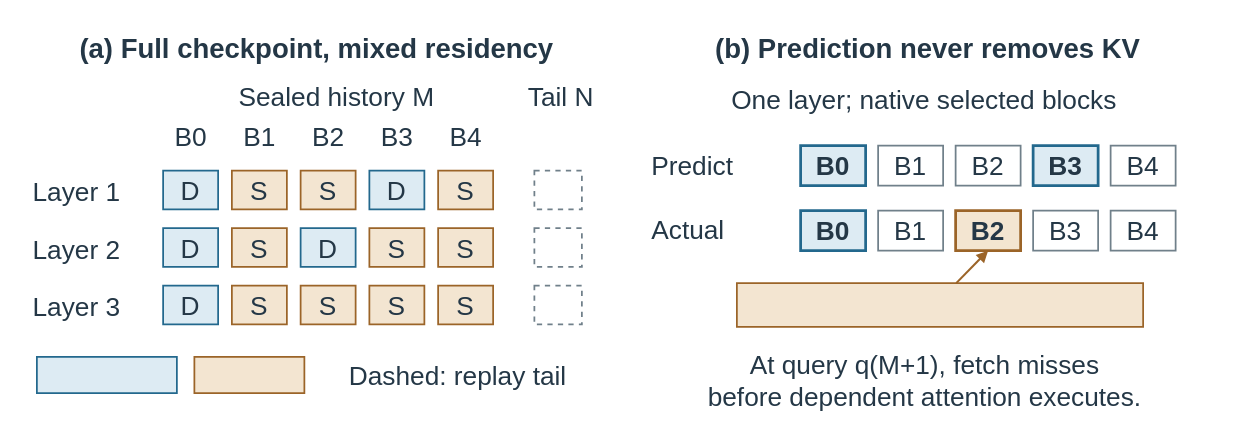
Image size: 1243x443. Some labels were removed from this diagram. Each missing label, with the centre of its shape:
"B2: fetch from SSD" goes at pixel 939 304.
"D: DRAM" goes at pixel 106 374.
"S: SSD" goes at pixel 249 374.
